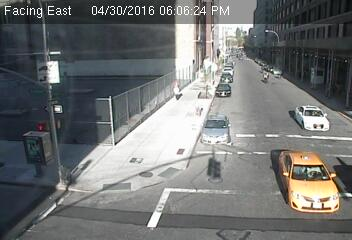neg: (283, 158, 315, 200), (116, 173, 133, 196), (332, 62, 348, 83), (182, 110, 197, 130), (311, 107, 325, 126), (109, 128, 123, 146), (57, 170, 70, 188), (204, 157, 217, 174), (146, 48, 158, 63), (55, 101, 66, 116), (264, 68, 274, 81), (246, 44, 256, 57), (230, 56, 239, 67), (280, 67, 286, 75)
pos: (171, 83, 183, 100)
